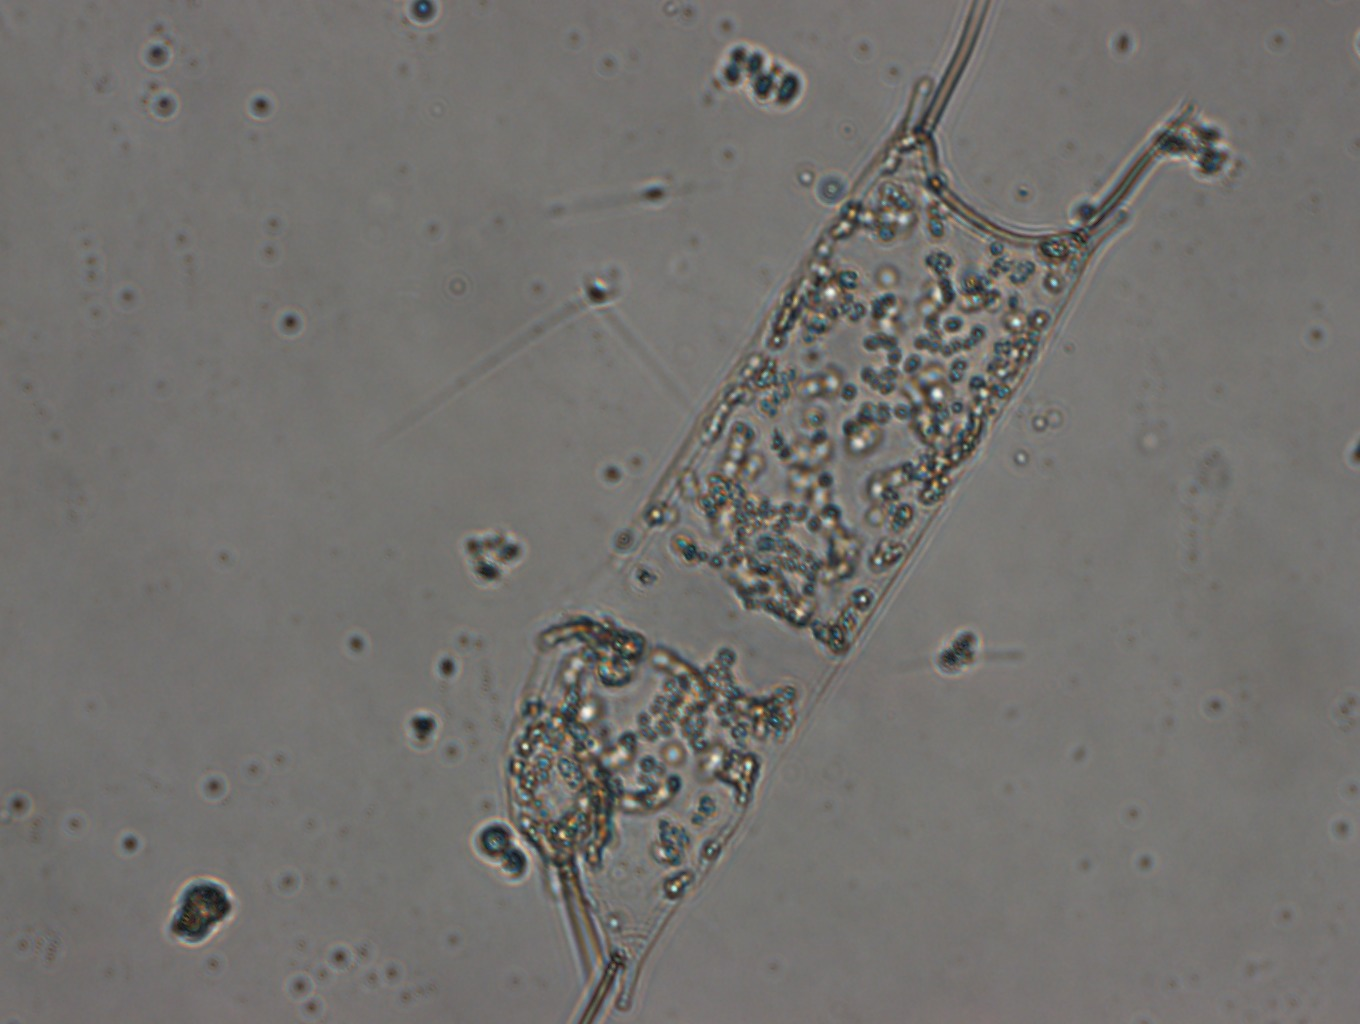biddulphia: (499, 1, 1196, 1020)
